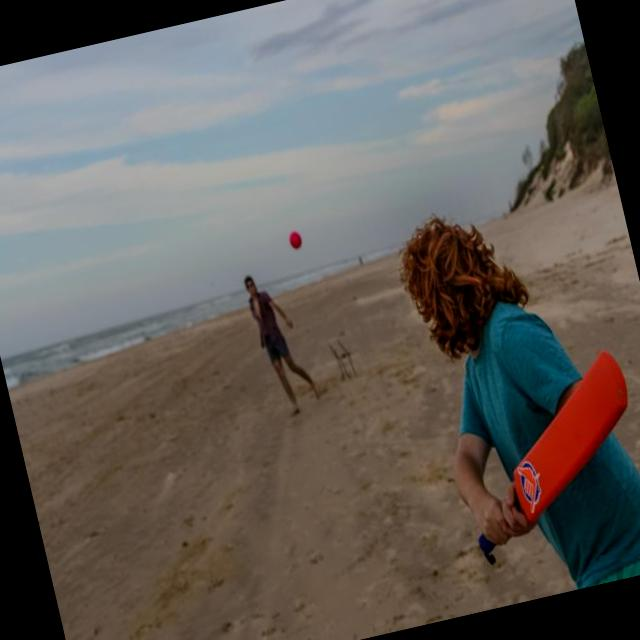person: (388, 176, 640, 611), (242, 264, 324, 418)
